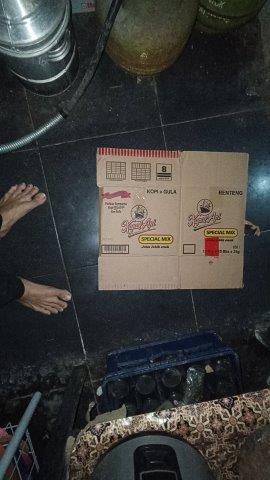kardus: (97, 148, 248, 289)
